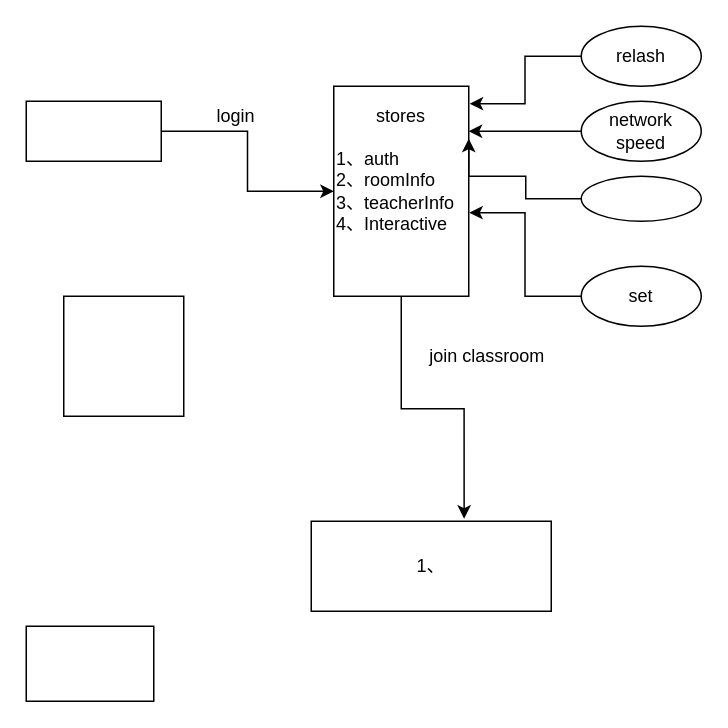
Some shapes in this 728 by 728 pixel diagram are drawn without their labels. The shapes that lost their labels are listed below. From the top down, each one's centre as x and y in pixels, then its label:
At pixel 93 130: "学生端".
At pixel 640 198: "eye protect".
At pixel 89 663: "老师端".
